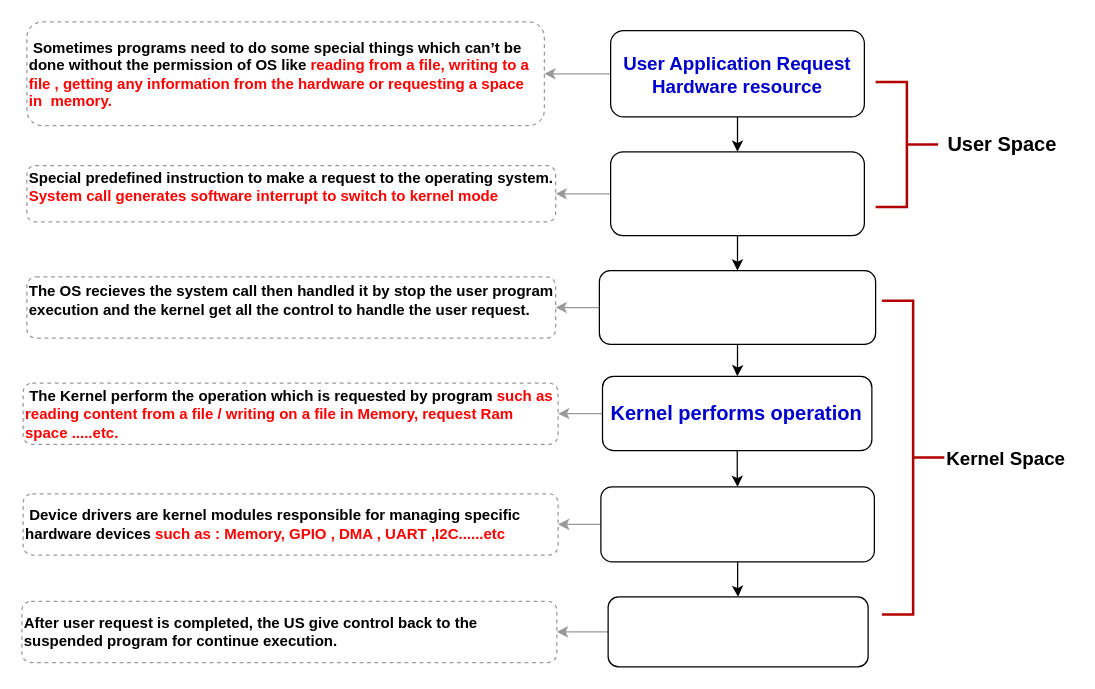
Image size: 1095x689. Some labels were removed from this diagram. Here are the shapes that lost their labels. From the top down, the box of each, then its label:
(609, 151, 864, 236): App Generates System call
(598, 269, 876, 344): Switch to Kernel Mode
(600, 486, 874, 562): Kernel Call Device Drivers
(607, 596, 868, 667): Hardware Resources
